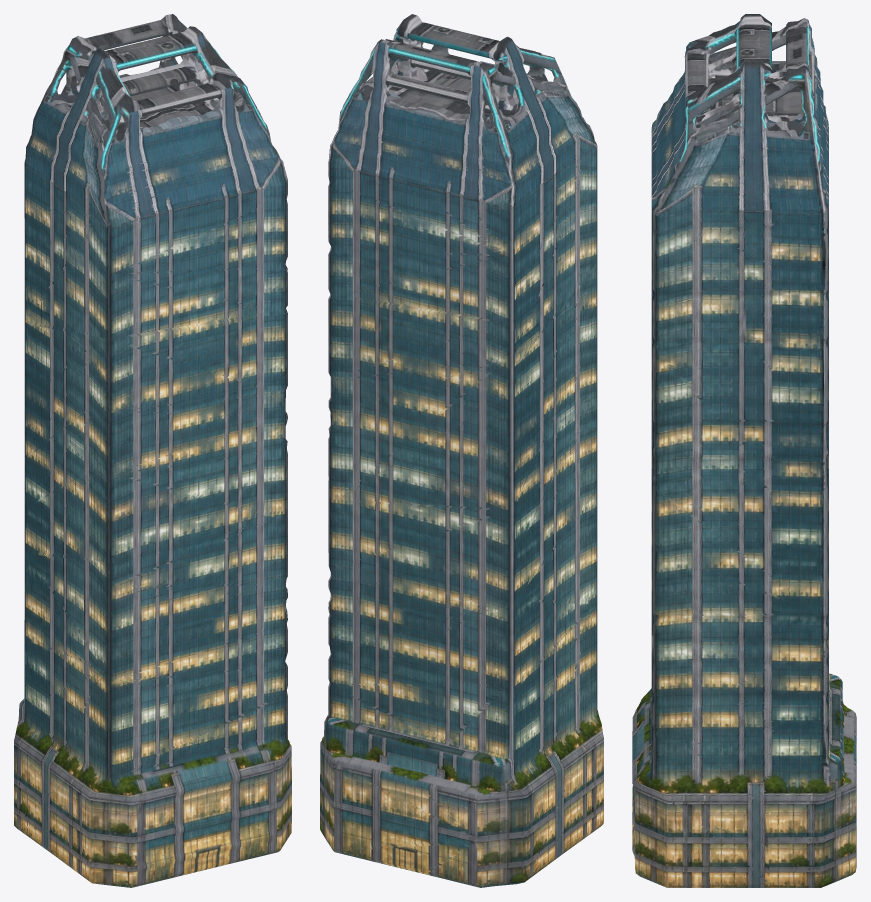
File: tower-glass.glb
3 renders of one model, left to right at view 1: azimuth 30°, elevation 25°; view 2: azimuth 150°, elevation 25°; view 3: azimuth 270°, elevation 25°, orthographic. The views are drawn at different scales.
Parts seen in each view (by area): view 1: tower-glass; view 2: tower-glass; view 3: tower-glass.
Part boxes in pixels (<box>): tower-glass: <box>14,14,291,887</box>; tower-glass: <box>320,14,603,887</box>; tower-glass: <box>632,14,856,887</box>.
Size of the model in its own units: 40 by 149 by 37.66.
1 material, 1 textured.
